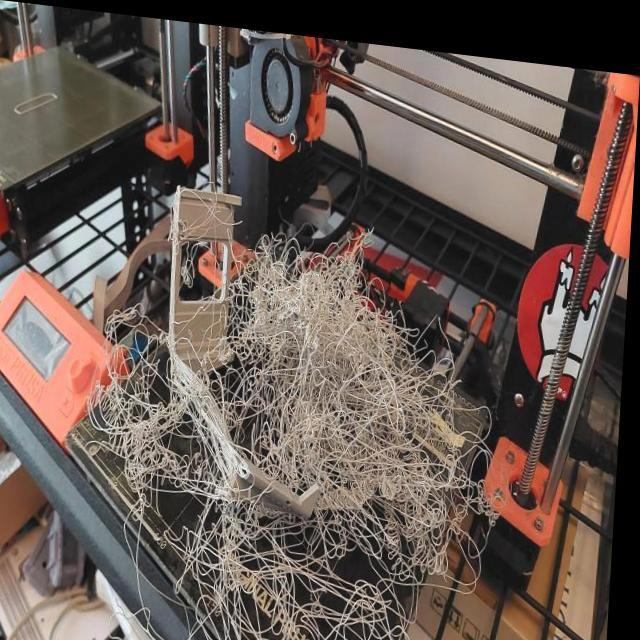spaghetti: (226, 244, 507, 529), (101, 308, 245, 608), (211, 481, 452, 640)
